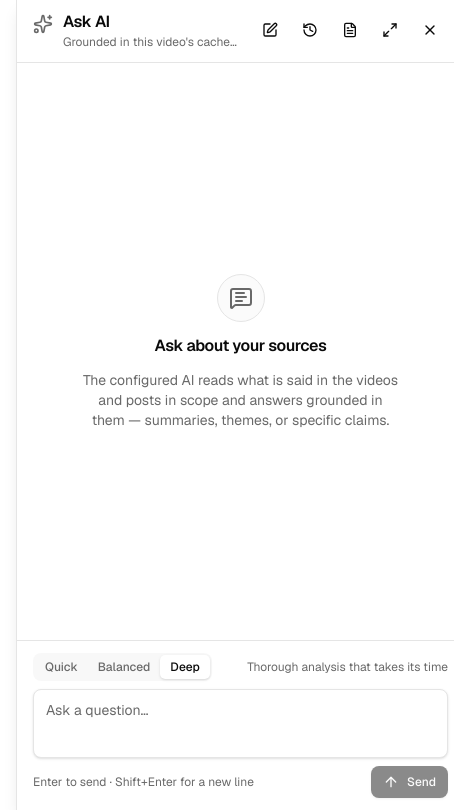
Test case: ChatPanel — streaming a turn › aborts cleanly when Stop is pressed mid-turn
Type "A long question" into the text box named "Your message". click: (240, 720)
box: [34,690,447,750]
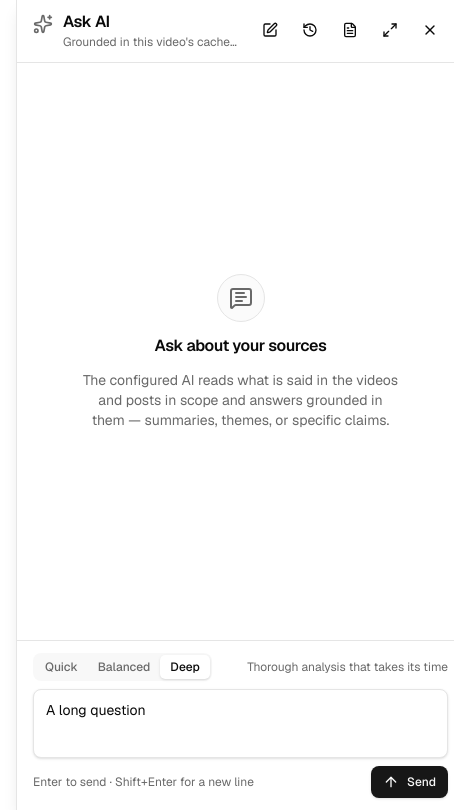
Click the button "Send". click: (410, 782)
box: [371,766,448,798]
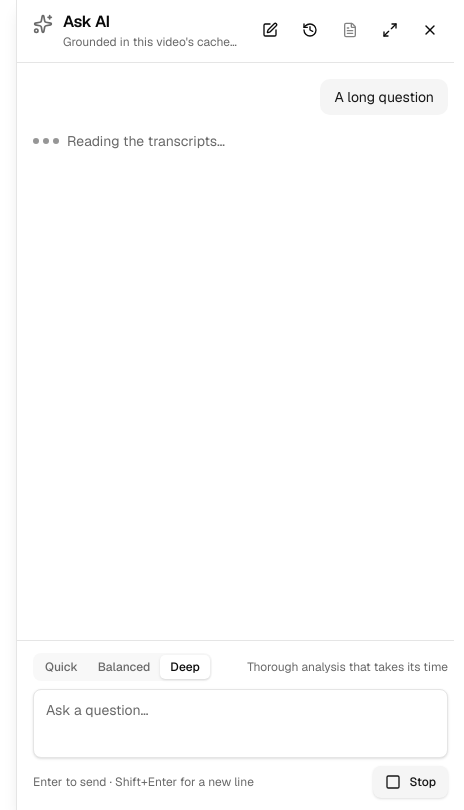
Result: the text "Reading the transcripts…" is shown at [33,132,225,150]
Click the button "Stop". click: (411, 782)
box: [374,766,448,798]
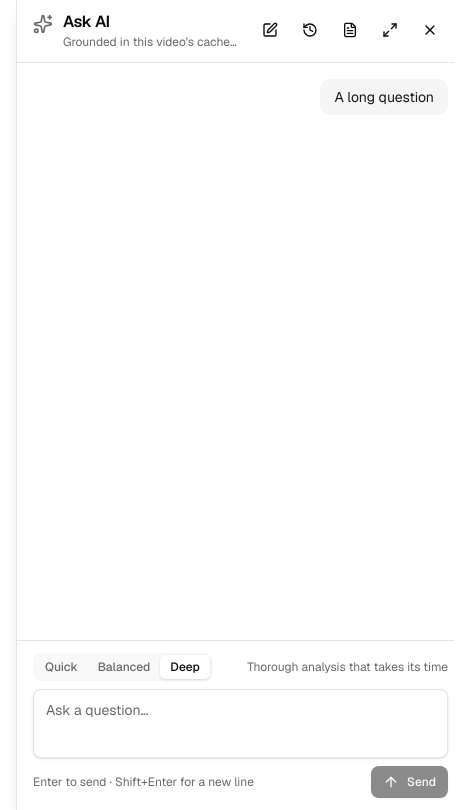
Result: the button "Send" is shown at [371,766,448,798]
Result: the message "Reading the transcripts…" is gone
